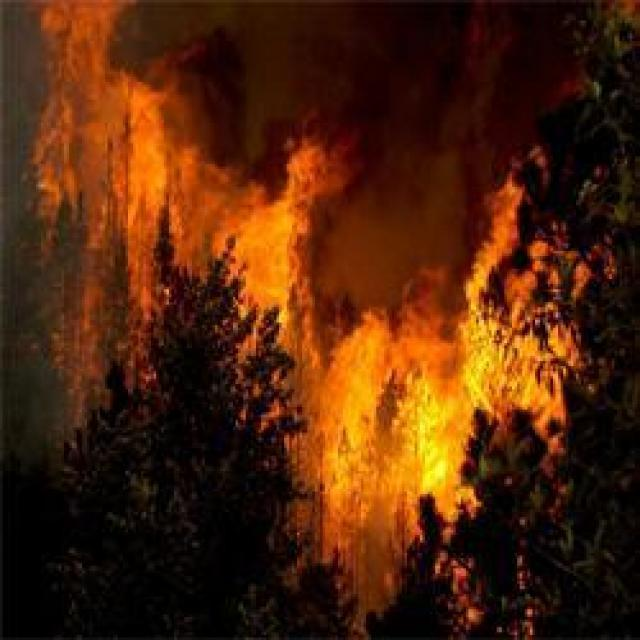Fire: (34, 115, 635, 595)
